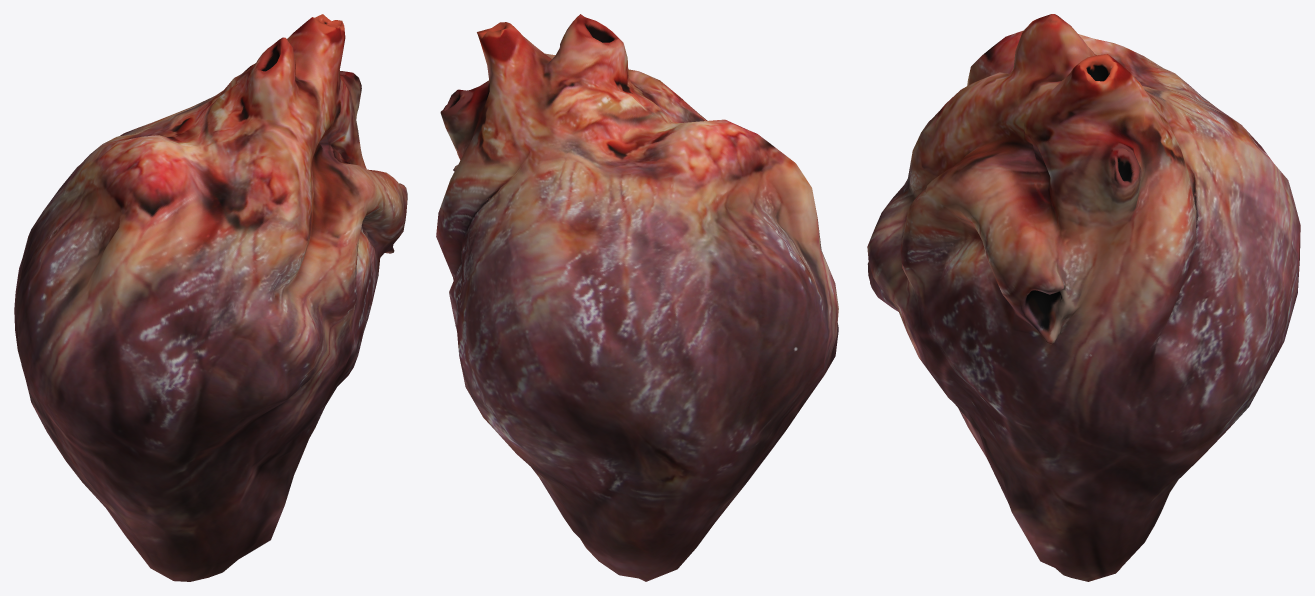
The model's file is cora.glb.
3 renders of one model, left to right at view 1: azimuth 30°, elevation 25°; view 2: azimuth 150°, elevation 25°; view 3: azimuth 270°, elevation 25°, orthographic. The views are drawn at different scales.
Parts seen in each view (by area): view 1: Heart; view 2: Heart; view 3: Heart.
Boxes of the visible parts, x1,y1,x2,y2 form: Heart: [14, 14, 407, 581]; Heart: [436, 14, 838, 581]; Heart: [867, 14, 1300, 581].
Size of the model in its own units: 0.7292 by 1 by 0.6489.
Materials: 1 (1 with a texture image).
